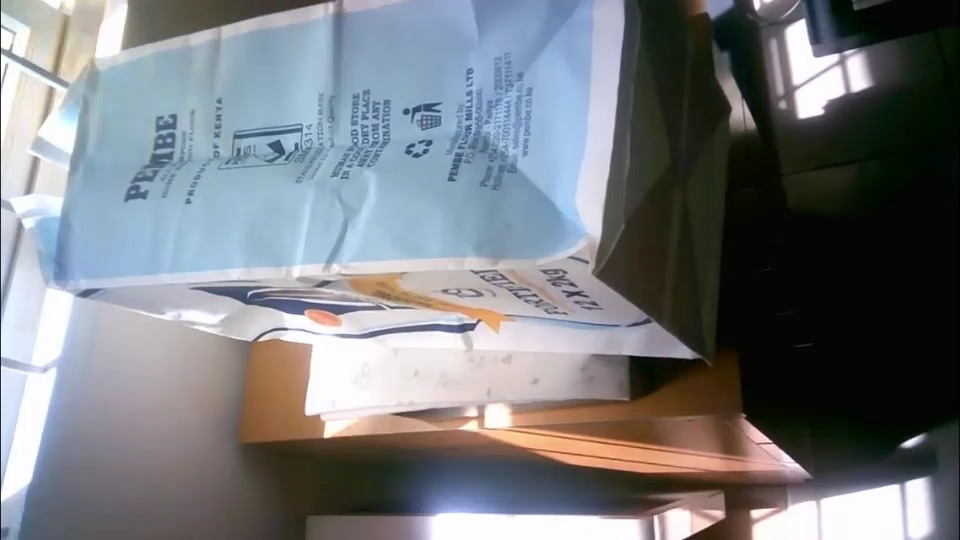wheat_flour_blue_label: (26, 0, 722, 368)
